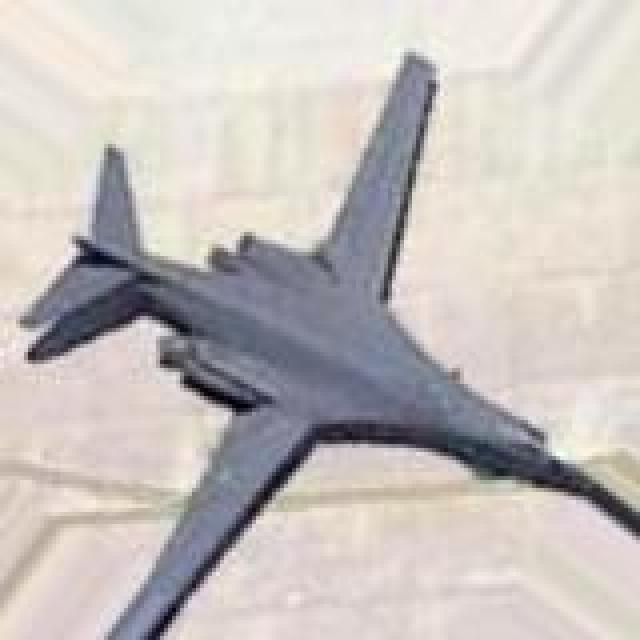B-1_TopDown: (12, 44, 636, 636)
